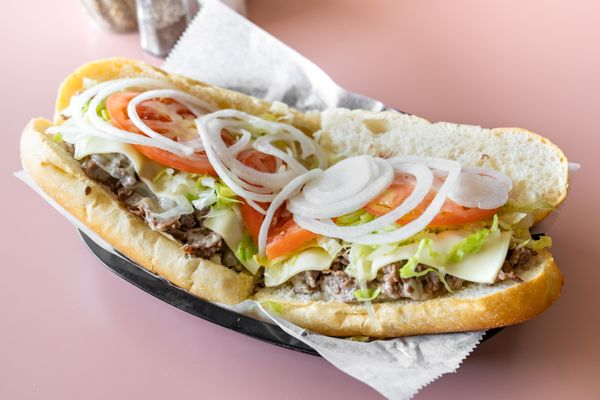curry: (15, 1, 592, 386)
sandwich: (20, 56, 580, 352)
